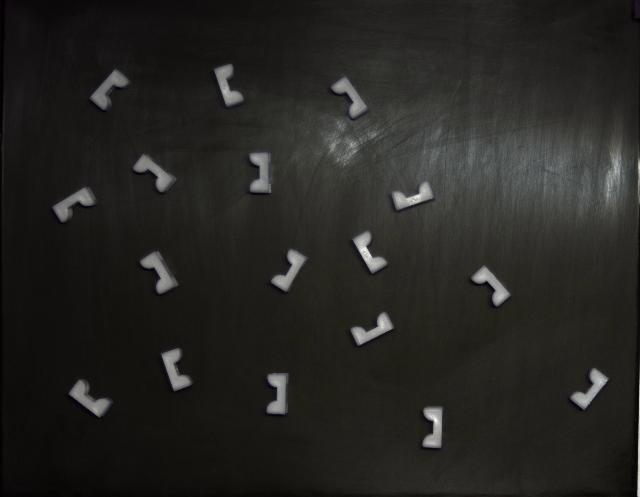third_side: (140, 251, 179, 295), (90, 70, 131, 111), (132, 154, 176, 192), (471, 266, 510, 308), (69, 380, 112, 418), (570, 369, 609, 410), (331, 76, 368, 119), (52, 188, 98, 222), (271, 250, 308, 292), (352, 231, 388, 274), (350, 312, 394, 346), (214, 64, 244, 108), (161, 349, 192, 391), (391, 181, 434, 211), (266, 374, 289, 415), (249, 152, 271, 194), (422, 408, 442, 449)
